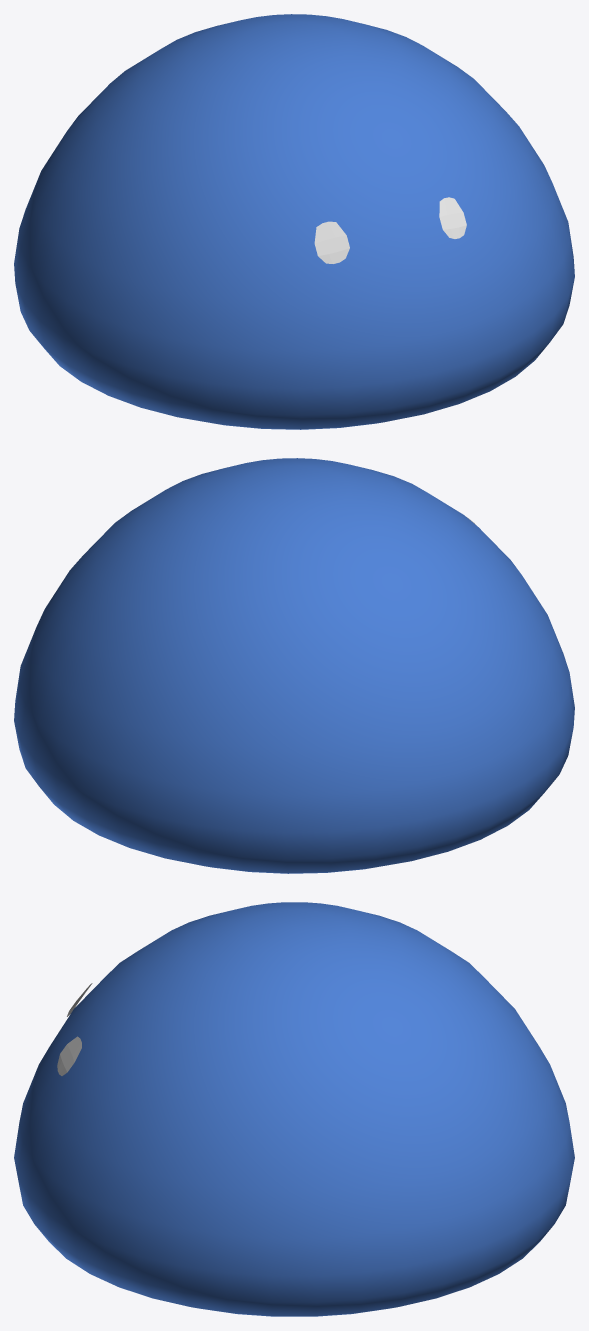
File: AllySlime.fbx
3 renders of one model, top to bottom at view 1: azimuth 30°, elevation 25°; view 2: azimuth 150°, elevation 25°; view 3: azimuth 270°, elevation 25°, orthographic.
Visible parts, largest first — view 1: Sphere, Plane.003, Plane.004; view 2: Sphere; view 3: Sphere, Plane.004.
Part boxes in pixels (left/top/right/bottom): Sphere: left=14, top=14, right=574, bottom=429; Plane.003: left=314, top=221, right=349, bottom=263; Plane.004: left=439, top=197, right=466, bottom=238; Sphere: left=14, top=458, right=574, bottom=873; Sphere: left=14, top=902, right=574, bottom=1316; Plane.004: left=57, top=1036, right=81, bottom=1075.
Bounding box in the file's own units: 199 × 116 × 200.
